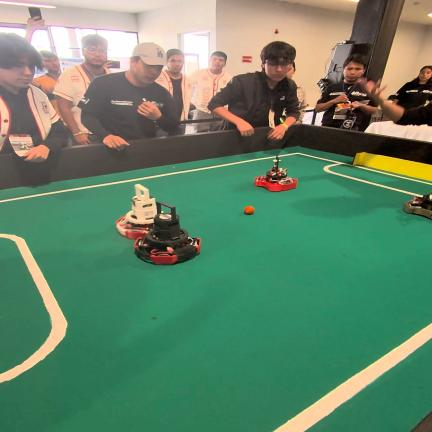cancha: (0, 147, 432, 432), (309, 340, 432, 432), (0, 238, 51, 372)
limites: (274, 323, 432, 432), (0, 157, 271, 203), (0, 234, 68, 383), (281, 152, 414, 195), (357, 167, 432, 184)
pelota: (243, 206, 254, 215)
porteria: (353, 152, 432, 181)
robot: (134, 202, 201, 265), (116, 184, 157, 239), (254, 156, 298, 192), (403, 193, 432, 219)
